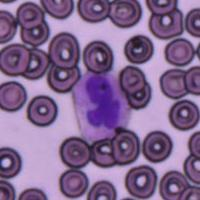N: (72, 71, 130, 140)
